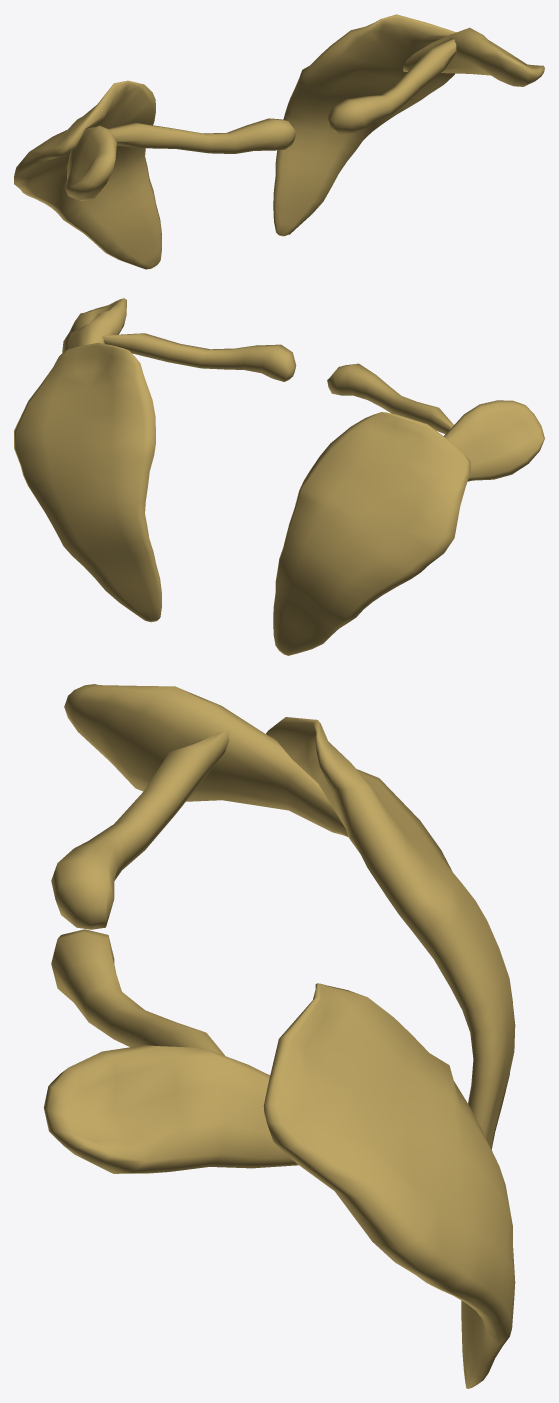
The model's file is Clavivle.obj.
3 views of the same model, one above another, from view 1: azimuth 30°, elevation 25°; view 2: azimuth 150°, elevation 25°; view 3: azimuth 270°, elevation 25° (orthographic). The views are drawn at different scales.
Parts seen in each view (by area): view 1: Clavicle_And_Shoulder; view 2: Clavicle_And_Shoulder; view 3: Clavicle_And_Shoulder.
Boxes of the visible parts, <box> form: Clavicle_And_Shoulder: <box>14,14,544,269</box>; Clavicle_And_Shoulder: <box>14,298,544,655</box>; Clavicle_And_Shoulder: <box>43,684,515,1388</box>.
Bounding box in the file's own units: 3.1 × 1.46 × 1.35.
